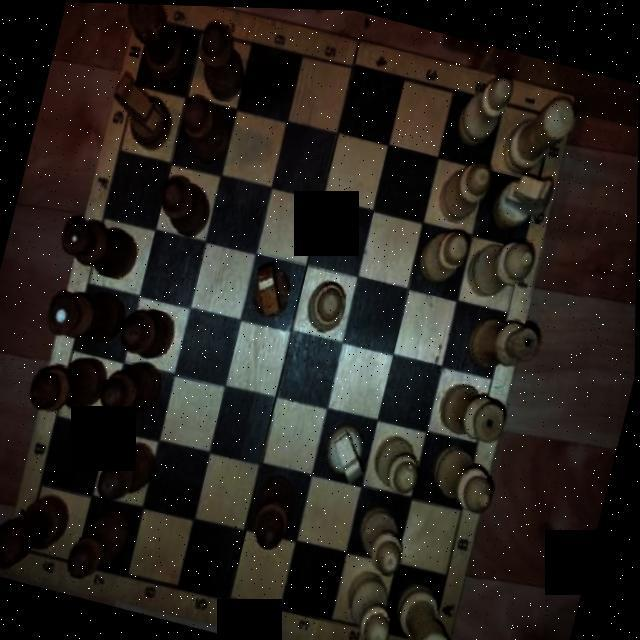chess-table-corners: (519, 83, 579, 149), (2, 513, 60, 579), (125, 3, 183, 58), (402, 601, 460, 640)
